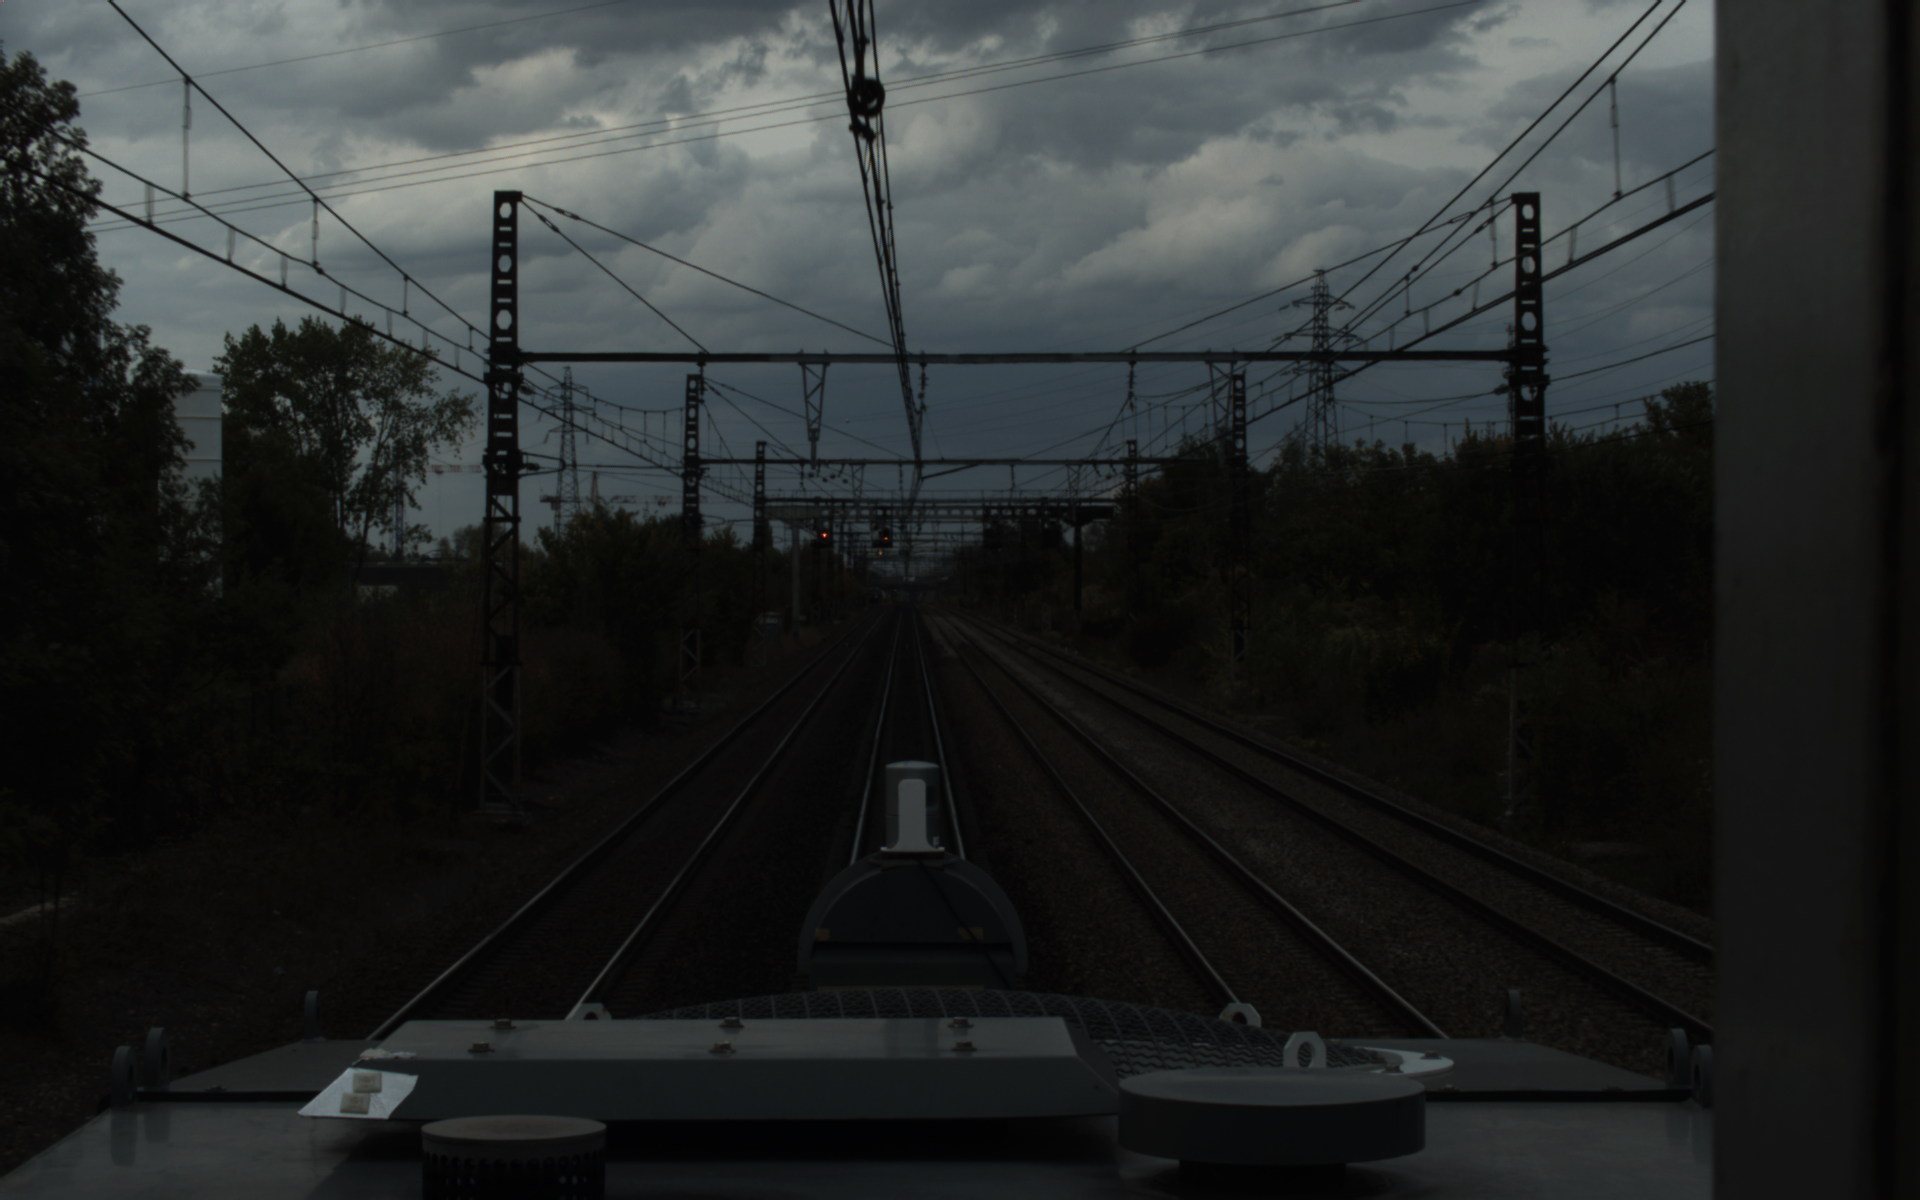Blinking: (878, 525, 893, 545)
Fixed: (816, 525, 829, 543)
